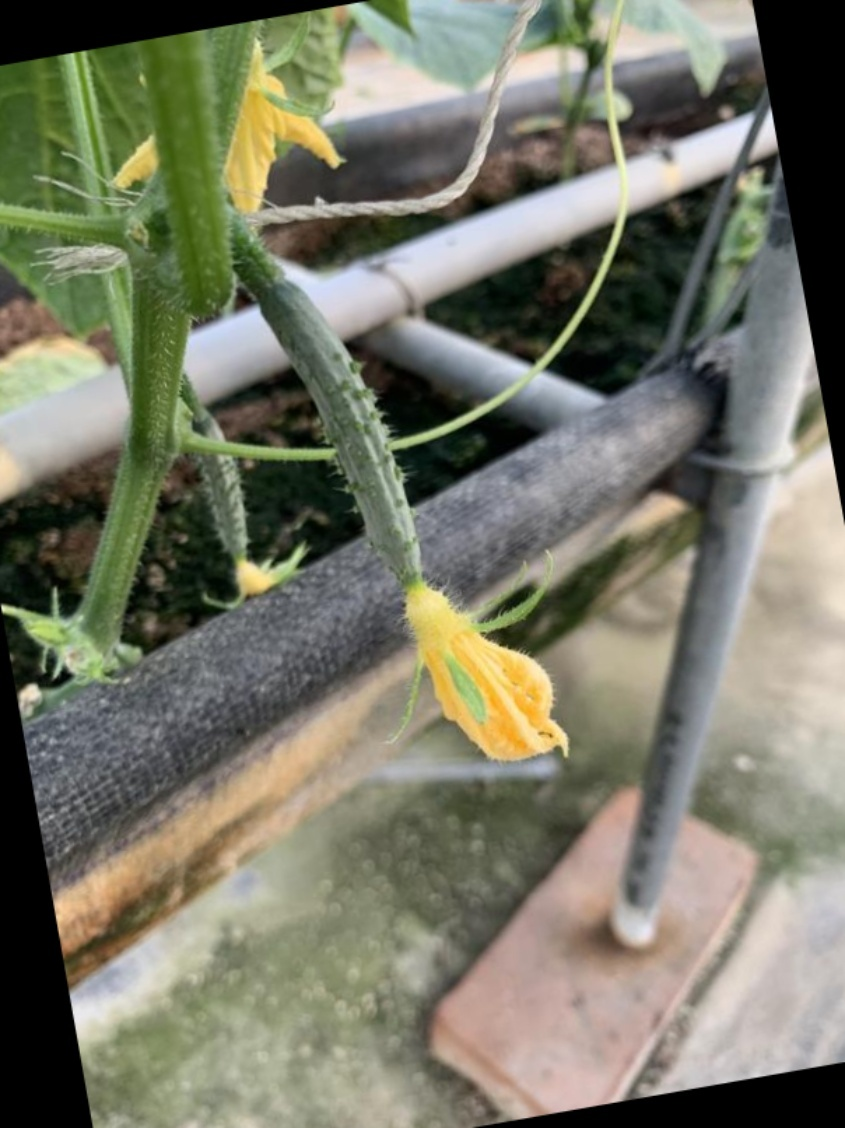bear: (255, 268, 522, 752)
